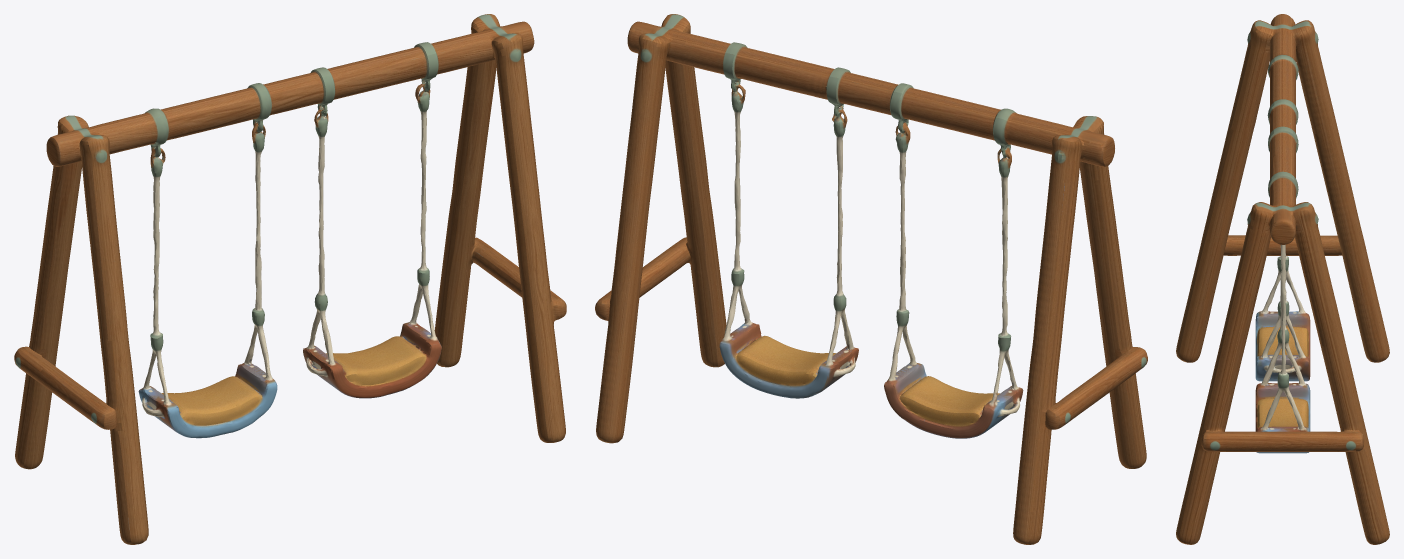
File: swings.glb
The picture shows the model from 3 angles, left to right: view 1: azimuth 30°, elevation 25°; view 2: azimuth 150°, elevation 25°; view 3: azimuth 270°, elevation 25°; orthographic projection. The views are drawn at different scales.
Parts seen in each view (by area): view 1: Mesh0; view 2: Mesh0; view 3: Mesh0.
Boxes of the visible parts, x1=… form: Mesh0: x1=14, y1=14, x2=566, y2=544; Mesh0: x1=595, y1=14, x2=1147, y2=544; Mesh0: x1=1176, y1=14, x2=1389, y2=544.
Bounding box in the file's own units: 1.9 × 1.44 × 0.8268.
Materials: 1 (1 with a texture image).
